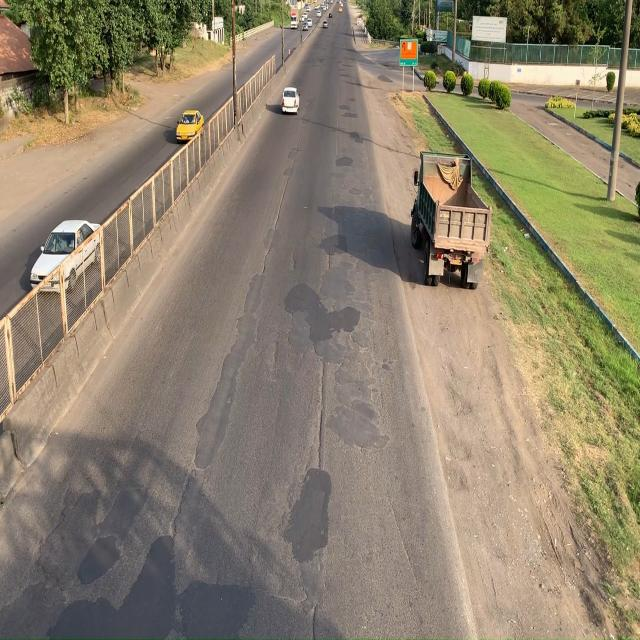Truck: (408, 146, 492, 284)
cars: (31, 220, 102, 292), (178, 108, 204, 145)
